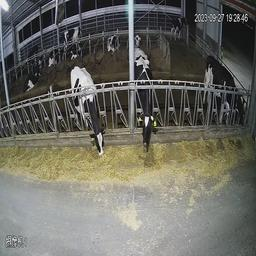cow: (65, 62, 112, 167), (205, 52, 249, 143), (133, 43, 161, 159), (21, 62, 47, 97), (168, 11, 191, 43), (61, 24, 84, 43), (107, 26, 122, 55), (46, 43, 59, 70)
